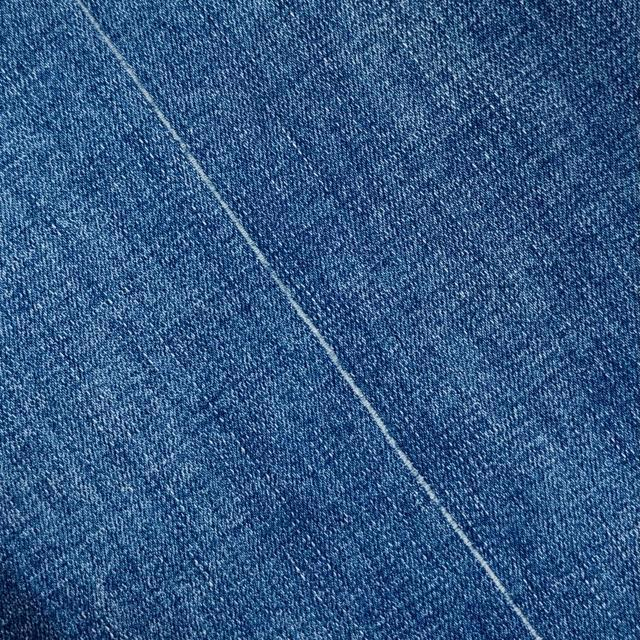Line: (74, 0, 543, 640)
